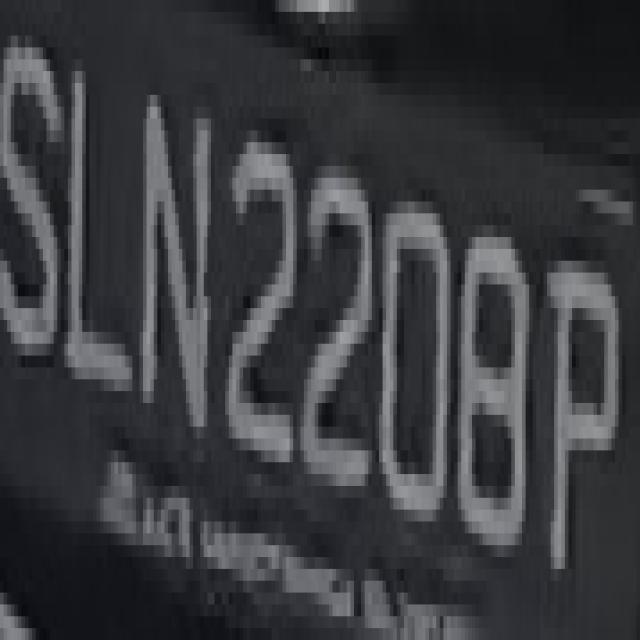0: (376, 142, 450, 593)
2: (304, 95, 379, 533), (232, 119, 308, 522)
8: (454, 154, 536, 581)
L: (64, 59, 132, 427)
N: (129, 71, 229, 486)
P: (547, 202, 622, 604)
S: (0, 0, 64, 403)
